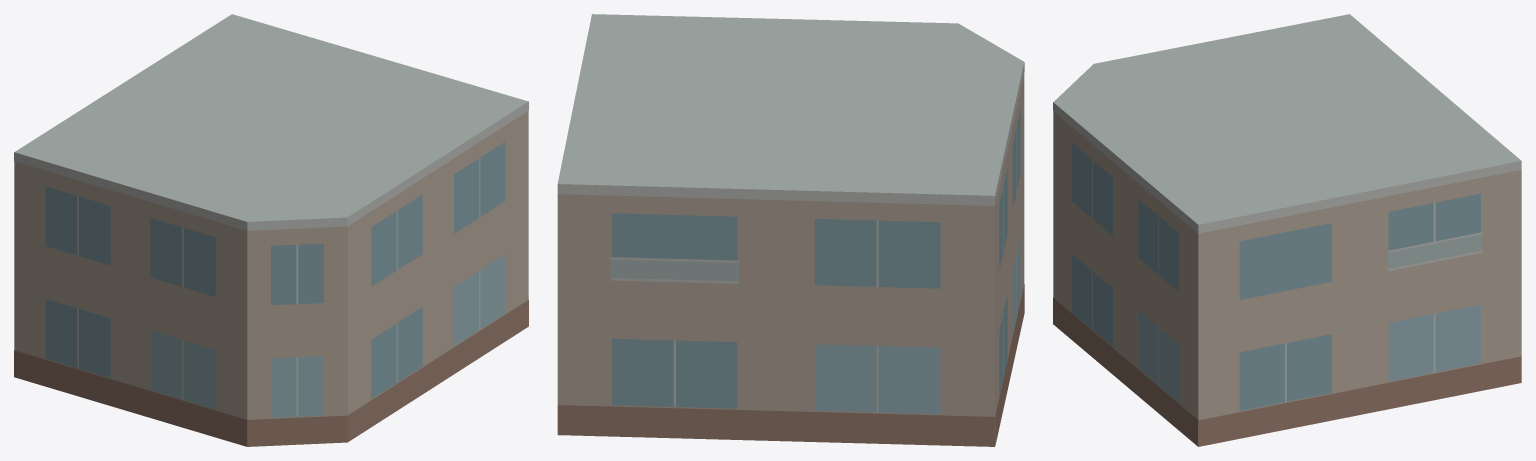
Rendered from survey-upis-32890745.glb.
3 views of the same model, side by side, from view 1: azimuth 30°, elevation 25°; view 2: azimuth 150°, elevation 25°; view 3: azimuth 270°, elevation 25° (orthographic). The views are drawn at different scales.
Parts seen in each view (by area): view 1: survey-upis-32890745.tmp; view 2: survey-upis-32890745.tmp; view 3: survey-upis-32890745.tmp.
Boxes of the visible parts, x1,y1,x2,y2 form: survey-upis-32890745.tmp: [14, 14, 528, 446]; survey-upis-32890745.tmp: [557, 14, 1024, 446]; survey-upis-32890745.tmp: [1053, 14, 1521, 446].
Size of the model in its own units: 12.44 by 6.1 by 11.68.
